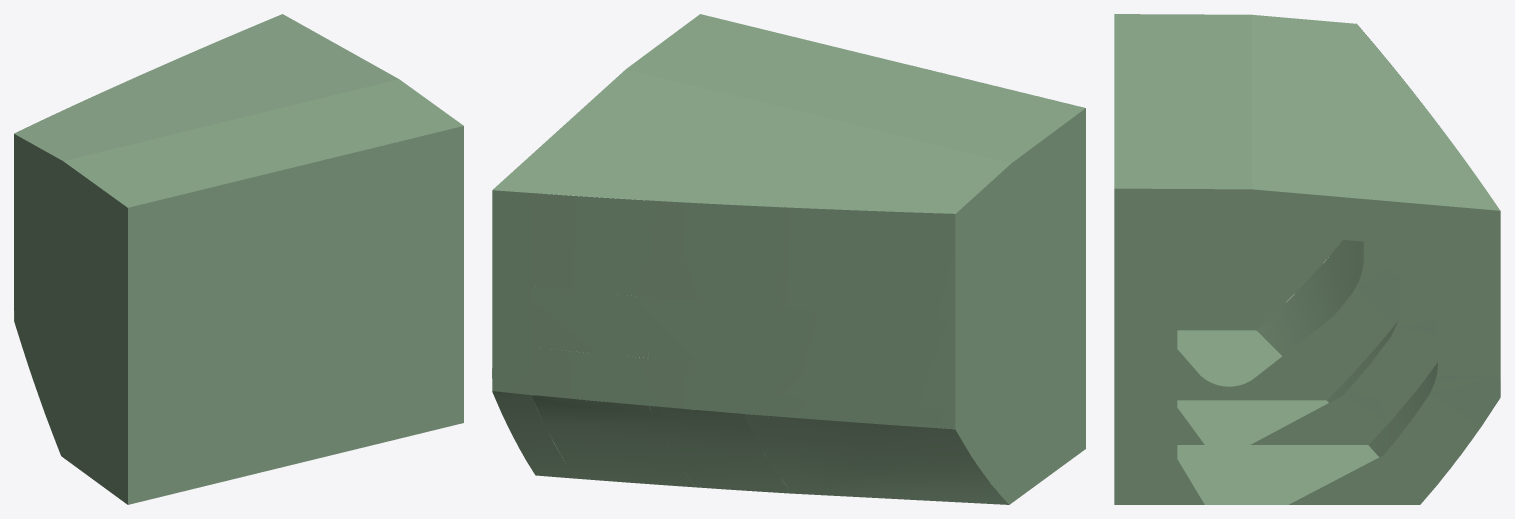
File: FRESH_WATER_TK_PS.glb
3 views of the same model, side by side, from view 1: azimuth 30°, elevation 25°; view 2: azimuth 150°, elevation 25°; view 3: azimuth 270°, elevation 25° (orthographic). The views are drawn at different scales.
Visible parts, largest first — view 1: PL_LBHDxEPRP_027002-12.5_NVA_1993, PL_LBHDxEPRP_027004-12.5_NVA_1993, PL_LBHDxEPRP_025002-12.5_NVA_1993, PL_LBHDxEPRP_025004-12.5_NVA_1993, PL_LBHDxEPRP_026005-12.5_NVA_1993, PL_UDxEPRP_023002-12.5_NVA_1993, PL_LBHDxEPRP_026009-12.5_NVA_1993, PL_SideTransBHDxBHD13P_007001-12.5_NVA_1993, PL_UDxEPRP_023004-12.5_NVA_1993, PL_UDxEPRP_020004-12.5_NVA_1993, PL_LBHDxEPRP_026004-12.5_NVA_1993, PL_UDxEPRP_020009-12.5_NVA_1993 (+19 smaller); view 2: PL_OuterShellxEPRP_019002-18.5_NVA_1993, PL_OuterShellxEPRP_019001-18.5_NVA_1993, PL_OuterShellxEPRP_015004-18.5_NVA_1993, PL_UDxEPRP_023002-12.5_NVA_1993, PL_OuterShellxEPRP_007001-18.5_NVA_1993, PL_OuterShellxEPRP_007002-18.5_NVA_1993, PL_UDxEPRP_023004-12.5_NVA_1993, PL_OuterShellxEPRP_015001-18.5_NVA_1993, PL_SideTransBHDxBHD13P_007001-12.5_NVA_1993, PL_OuterShellxEPRP_015002-18.5_NVA_1993, PL_UDxEPRP_020004-12.5_NVA_1993, PL_UDxEPRP_020009-12.5_NVA_1993 (+24 smaller); view 3: PL_UDxEPRP_023002-12.5_NVA_1993, PL_SideTransBHDxBHD13P_007001-12.5_NVA_1993, PL_TransxFR25P_013001-12_NVA_1993, PL_2ndDeckxEPRP_020002-13_NVA_1993, PL_TransxFR25P_018003-12_NVA_1993, PL_UDxEPRP_023004-12.5_NVA_1993, PL_TransxFR21P_017001-12_NVA_1993, PL_TransxFR18P_011002-12_NVA_1993, PL_TransxFR25P_015001-12_NVA_1993, PL_UDxEPRP_020004-12.5_NVA_1993, PL_TransxFR25P_017001-12_NVA_1993, PL_UDxEPRP_020009-12.5_NVA_1993 (+24 smaller).
Part boxes in pixels (box(x1,y1,x2,y2)): PL_LBHDxEPRP_027002-12.5_NVA_1993: box(280, 126, 463, 288); PL_LBHDxEPRP_027004-12.5_NVA_1993: box(128, 170, 279, 325); PL_LBHDxEPRP_025002-12.5_NVA_1993: box(280, 334, 463, 467); PL_LBHDxEPRP_025004-12.5_NVA_1993: box(128, 379, 279, 504); PL_LBHDxEPRP_026005-12.5_NVA_1993: box(280, 280, 463, 378); PL_UDxEPRP_023002-12.5_NVA_1993: box(150, 42, 398, 123); PL_LBHDxEPRP_026009-12.5_NVA_1993: box(128, 288, 279, 386); PL_SideTransBHDxBHD13P_007001-12.5_NVA_1993: box(16, 328, 127, 504); PL_UDxEPRP_023004-12.5_NVA_1993: box(22, 87, 214, 158); PL_UDxEPRP_020004-12.5_NVA_1993: box(240, 97, 463, 170); PL_LBHDxEPRP_026004-12.5_NVA_1993: box(280, 243, 463, 325); PL_UDxEPRP_020009-12.5_NVA_1993: box(98, 142, 279, 205); PL_OuterShellxEPRP_019002-18.5_NVA_1993: box(743, 205, 955, 320); PL_OuterShellxEPRP_019001-18.5_NVA_1993: box(531, 193, 743, 305); PL_OuterShellxEPRP_015004-18.5_NVA_1993: box(743, 305, 955, 409); PL_UDxEPRP_023002-12.5_NVA_1993: box(551, 69, 836, 188); PL_OuterShellxEPRP_007001-18.5_NVA_1993: box(531, 395, 791, 493); PL_OuterShellxEPRP_007002-18.5_NVA_1993: box(743, 414, 1008, 504); PL_UDxEPRP_023004-12.5_NVA_1993: box(762, 120, 1000, 213); PL_OuterShellxEPRP_015001-18.5_NVA_1993: box(531, 286, 743, 365); PL_SideTransBHDxBHD13P_007001-12.5_NVA_1993: box(958, 339, 1085, 504); PL_OuterShellxEPRP_015002-18.5_NVA_1993: box(531, 347, 743, 413); PL_UDxEPRP_020004-12.5_NVA_1993: box(655, 14, 910, 99); PL_UDxEPRP_020009-12.5_NVA_1993: box(866, 65, 1074, 138); PL_UDxEPRP_023002-12.5_NVA_1993: box(1252, 93, 1391, 201); PL_SideTransBHDxBHD13P_007001-12.5_NVA_1993: box(1177, 231, 1342, 330); PL_TransxFR25P_013001-12_NVA_1993: box(1289, 376, 1500, 504); PL_2ndDeckxEPRP_020002-13_NVA_1993: box(1209, 409, 1358, 504); PL_TransxFR25P_018003-12_NVA_1993: box(1114, 353, 1198, 504); PL_UDxEPRP_023004-12.5_NVA_1993: box(1252, 19, 1391, 105); PL_TransxFR21P_017001-12_NVA_1993: box(1251, 315, 1437, 444); PL_TransxFR18P_011002-12_NVA_1993: box(1259, 274, 1400, 400); PL_TransxFR25P_015001-12_NVA_1993: box(1384, 201, 1500, 293); PL_UDxEPRP_020004-12.5_NVA_1993: box(1114, 93, 1198, 188); PL_TransxFR25P_017001-12_NVA_1993: box(1114, 188, 1198, 284); PL_UDxEPRP_020009-12.5_NVA_1993: box(1114, 19, 1198, 93).
Size of the model in its own units: 10.5 by 8.87 by 9.81.
